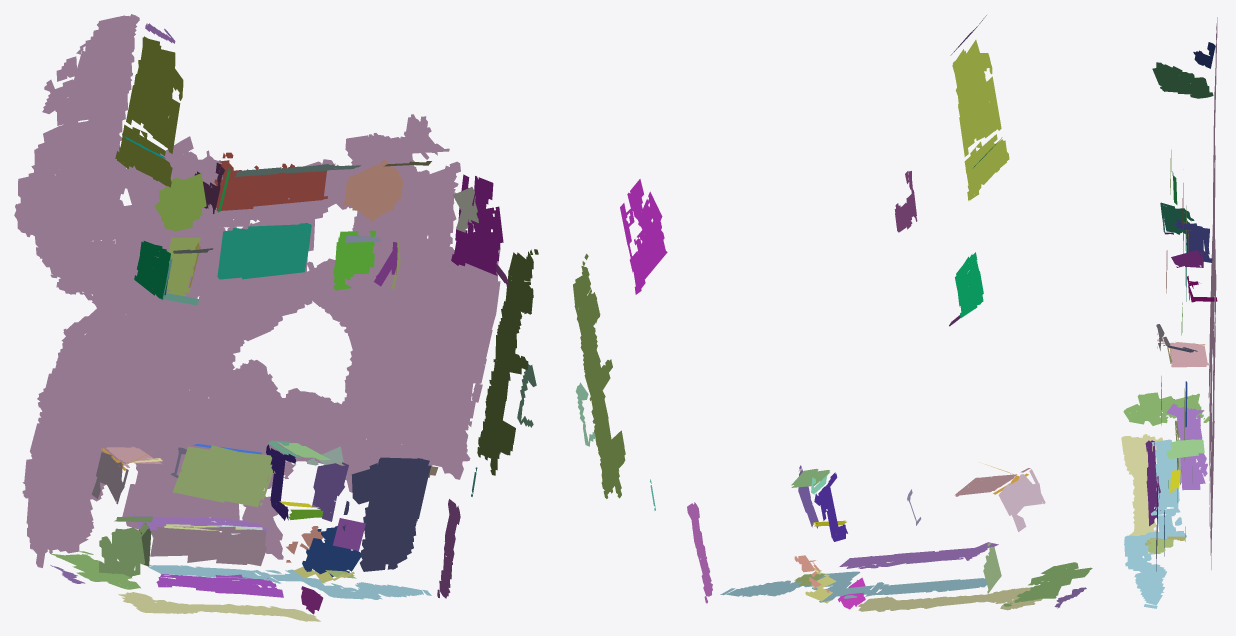
The model's file is scene0549_00_simple.glb.
The picture shows the model from 3 angles, left to right: view 1: azimuth 30°, elevation 25°; view 2: azimuth 150°, elevation 25°; view 3: azimuth 270°, elevation 25°; orthographic projection. The views are drawn at different scales.
Size of the model in its own units: 6.53 by 7.98 by 1.45.
